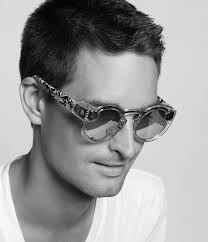Glasses: (30, 73, 178, 145)
